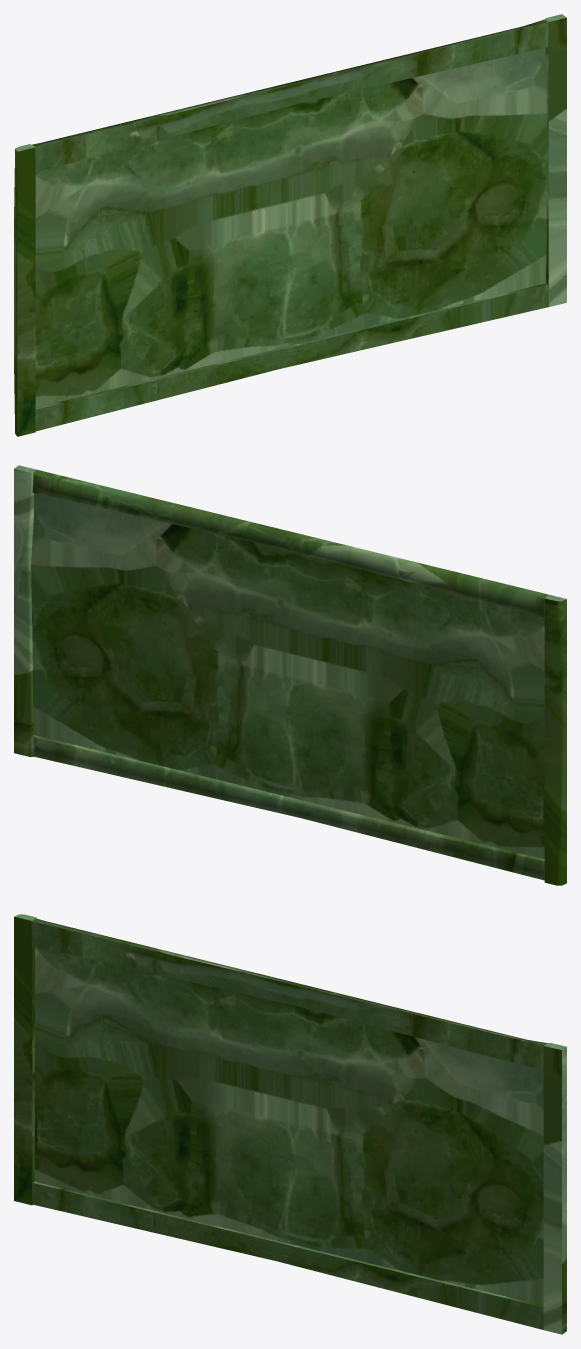
3 views of the same model, one above another, from view 1: azimuth 30°, elevation 25°; view 2: azimuth 150°, elevation 25°; view 3: azimuth 330°, elevation 25° (orthographic).
Parts seen in each view (by area): view 1: SM_Adamantite_Ore_Small_01_LOD0; view 2: SM_Adamantite_Ore_Small_01_LOD0; view 3: SM_Adamantite_Ore_Small_01_LOD0.
Boxes of the visible parts, left/top/right/bottom form: SM_Adamantite_Ore_Small_01_LOD0: left=14, top=14, right=566, bottom=436; SM_Adamantite_Ore_Small_01_LOD0: left=14, top=465, right=566, bottom=885; SM_Adamantite_Ore_Small_01_LOD0: left=14, top=914, right=566, bottom=1334.
Size of the model in its own units: 2.02 by 0.9999 by 0.031.
